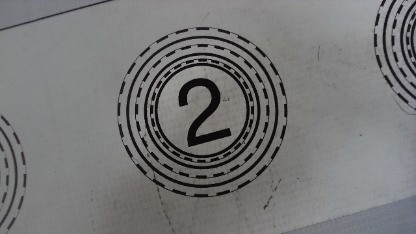2r: (115, 25, 287, 199)
